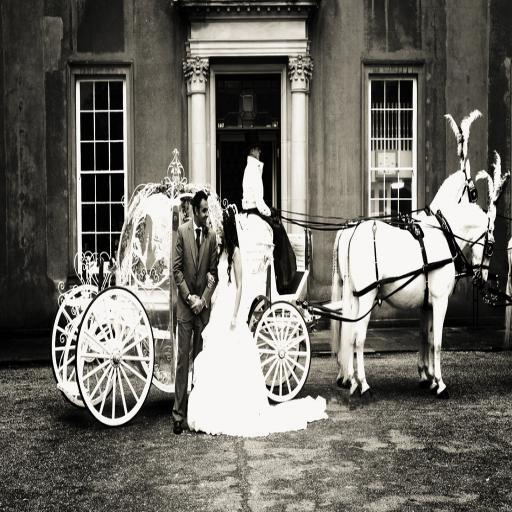horse: (330, 157, 478, 391), (335, 200, 495, 402)
